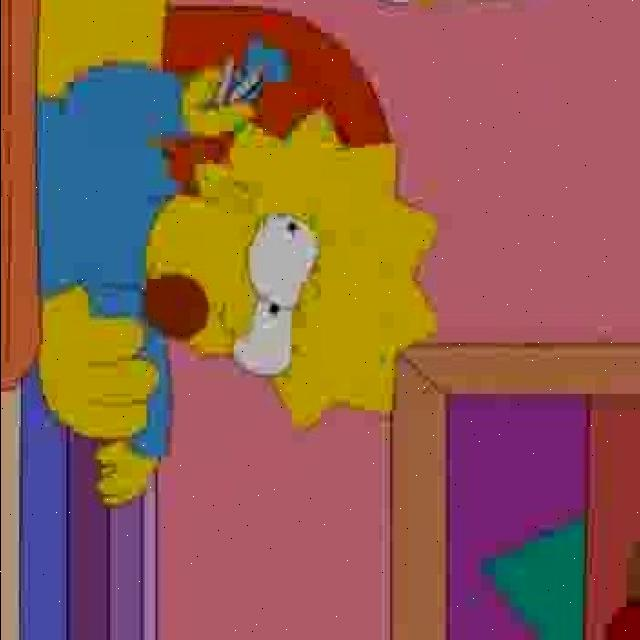Maggie Simpson: (141, 101, 441, 441)
